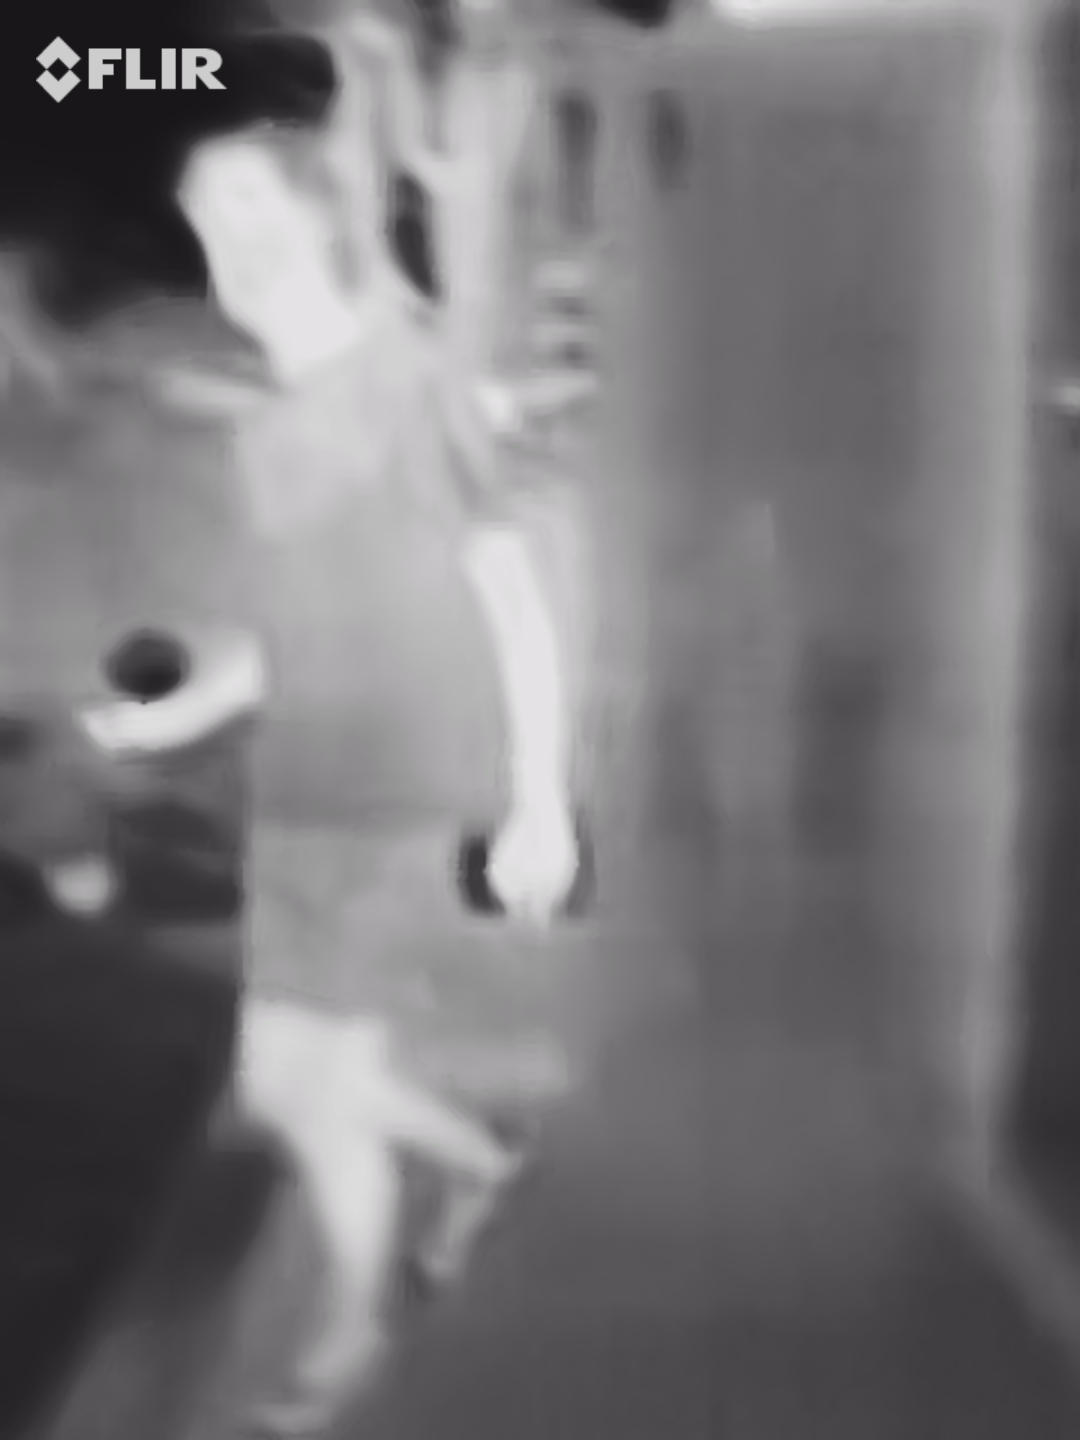head: (174, 121, 365, 339)
